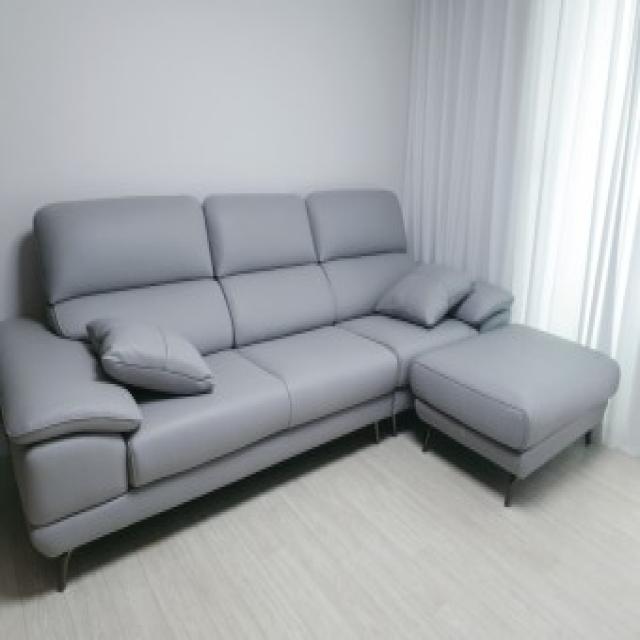Sofa: (3, 197, 617, 562)
